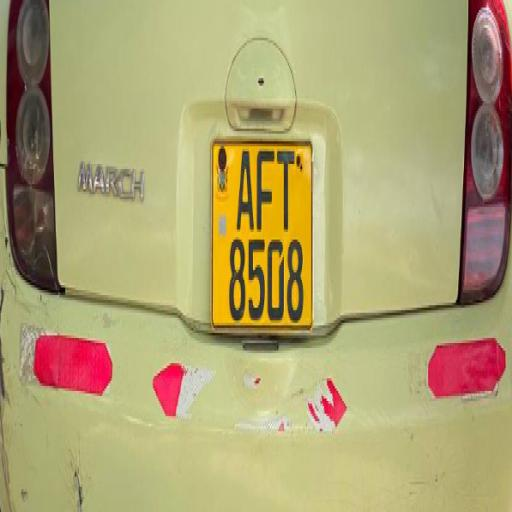number-plates: (212, 143, 310, 341)
